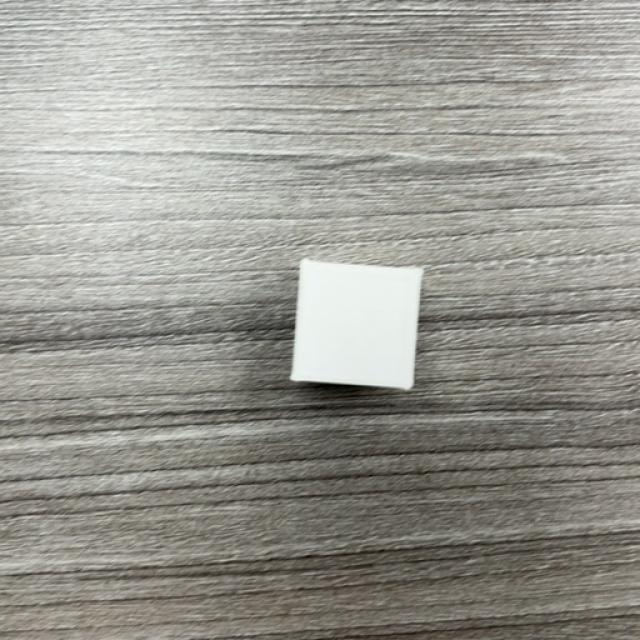Blanco: (290, 260, 424, 392)
